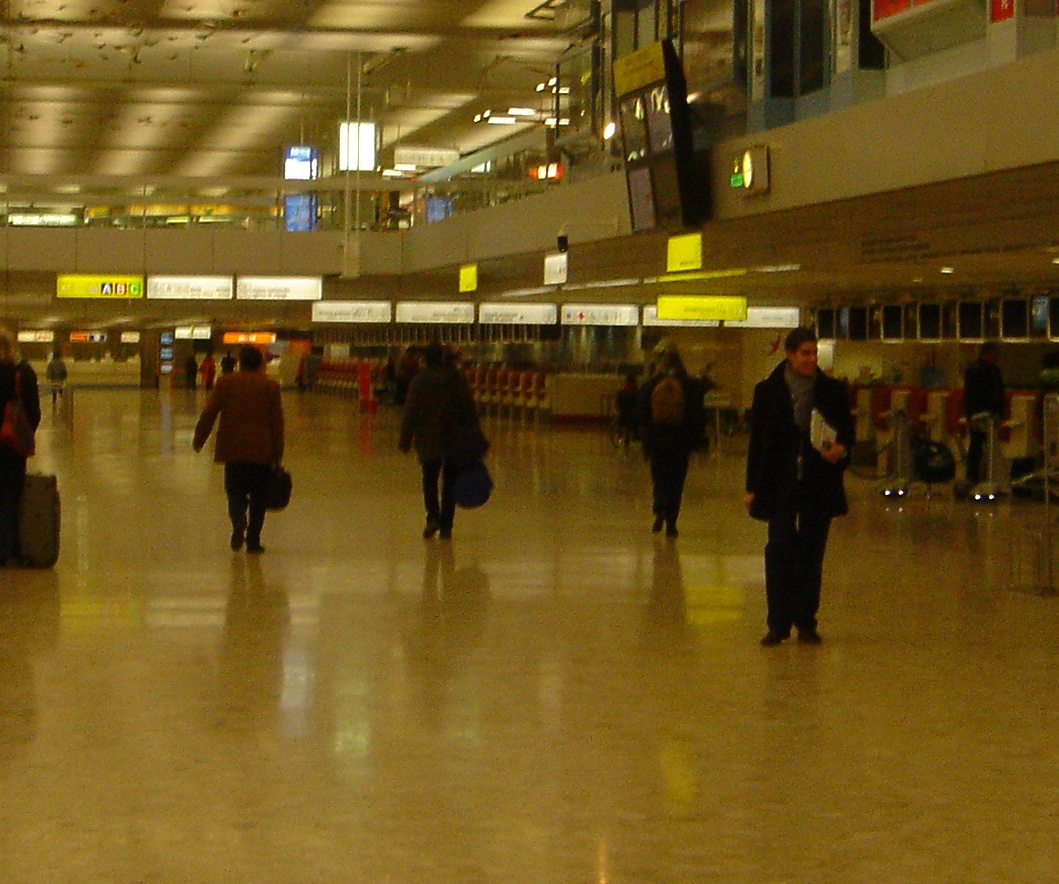person: (755, 325, 847, 645), (213, 342, 285, 554), (638, 340, 707, 538), (405, 343, 474, 538), (964, 339, 1015, 500)
